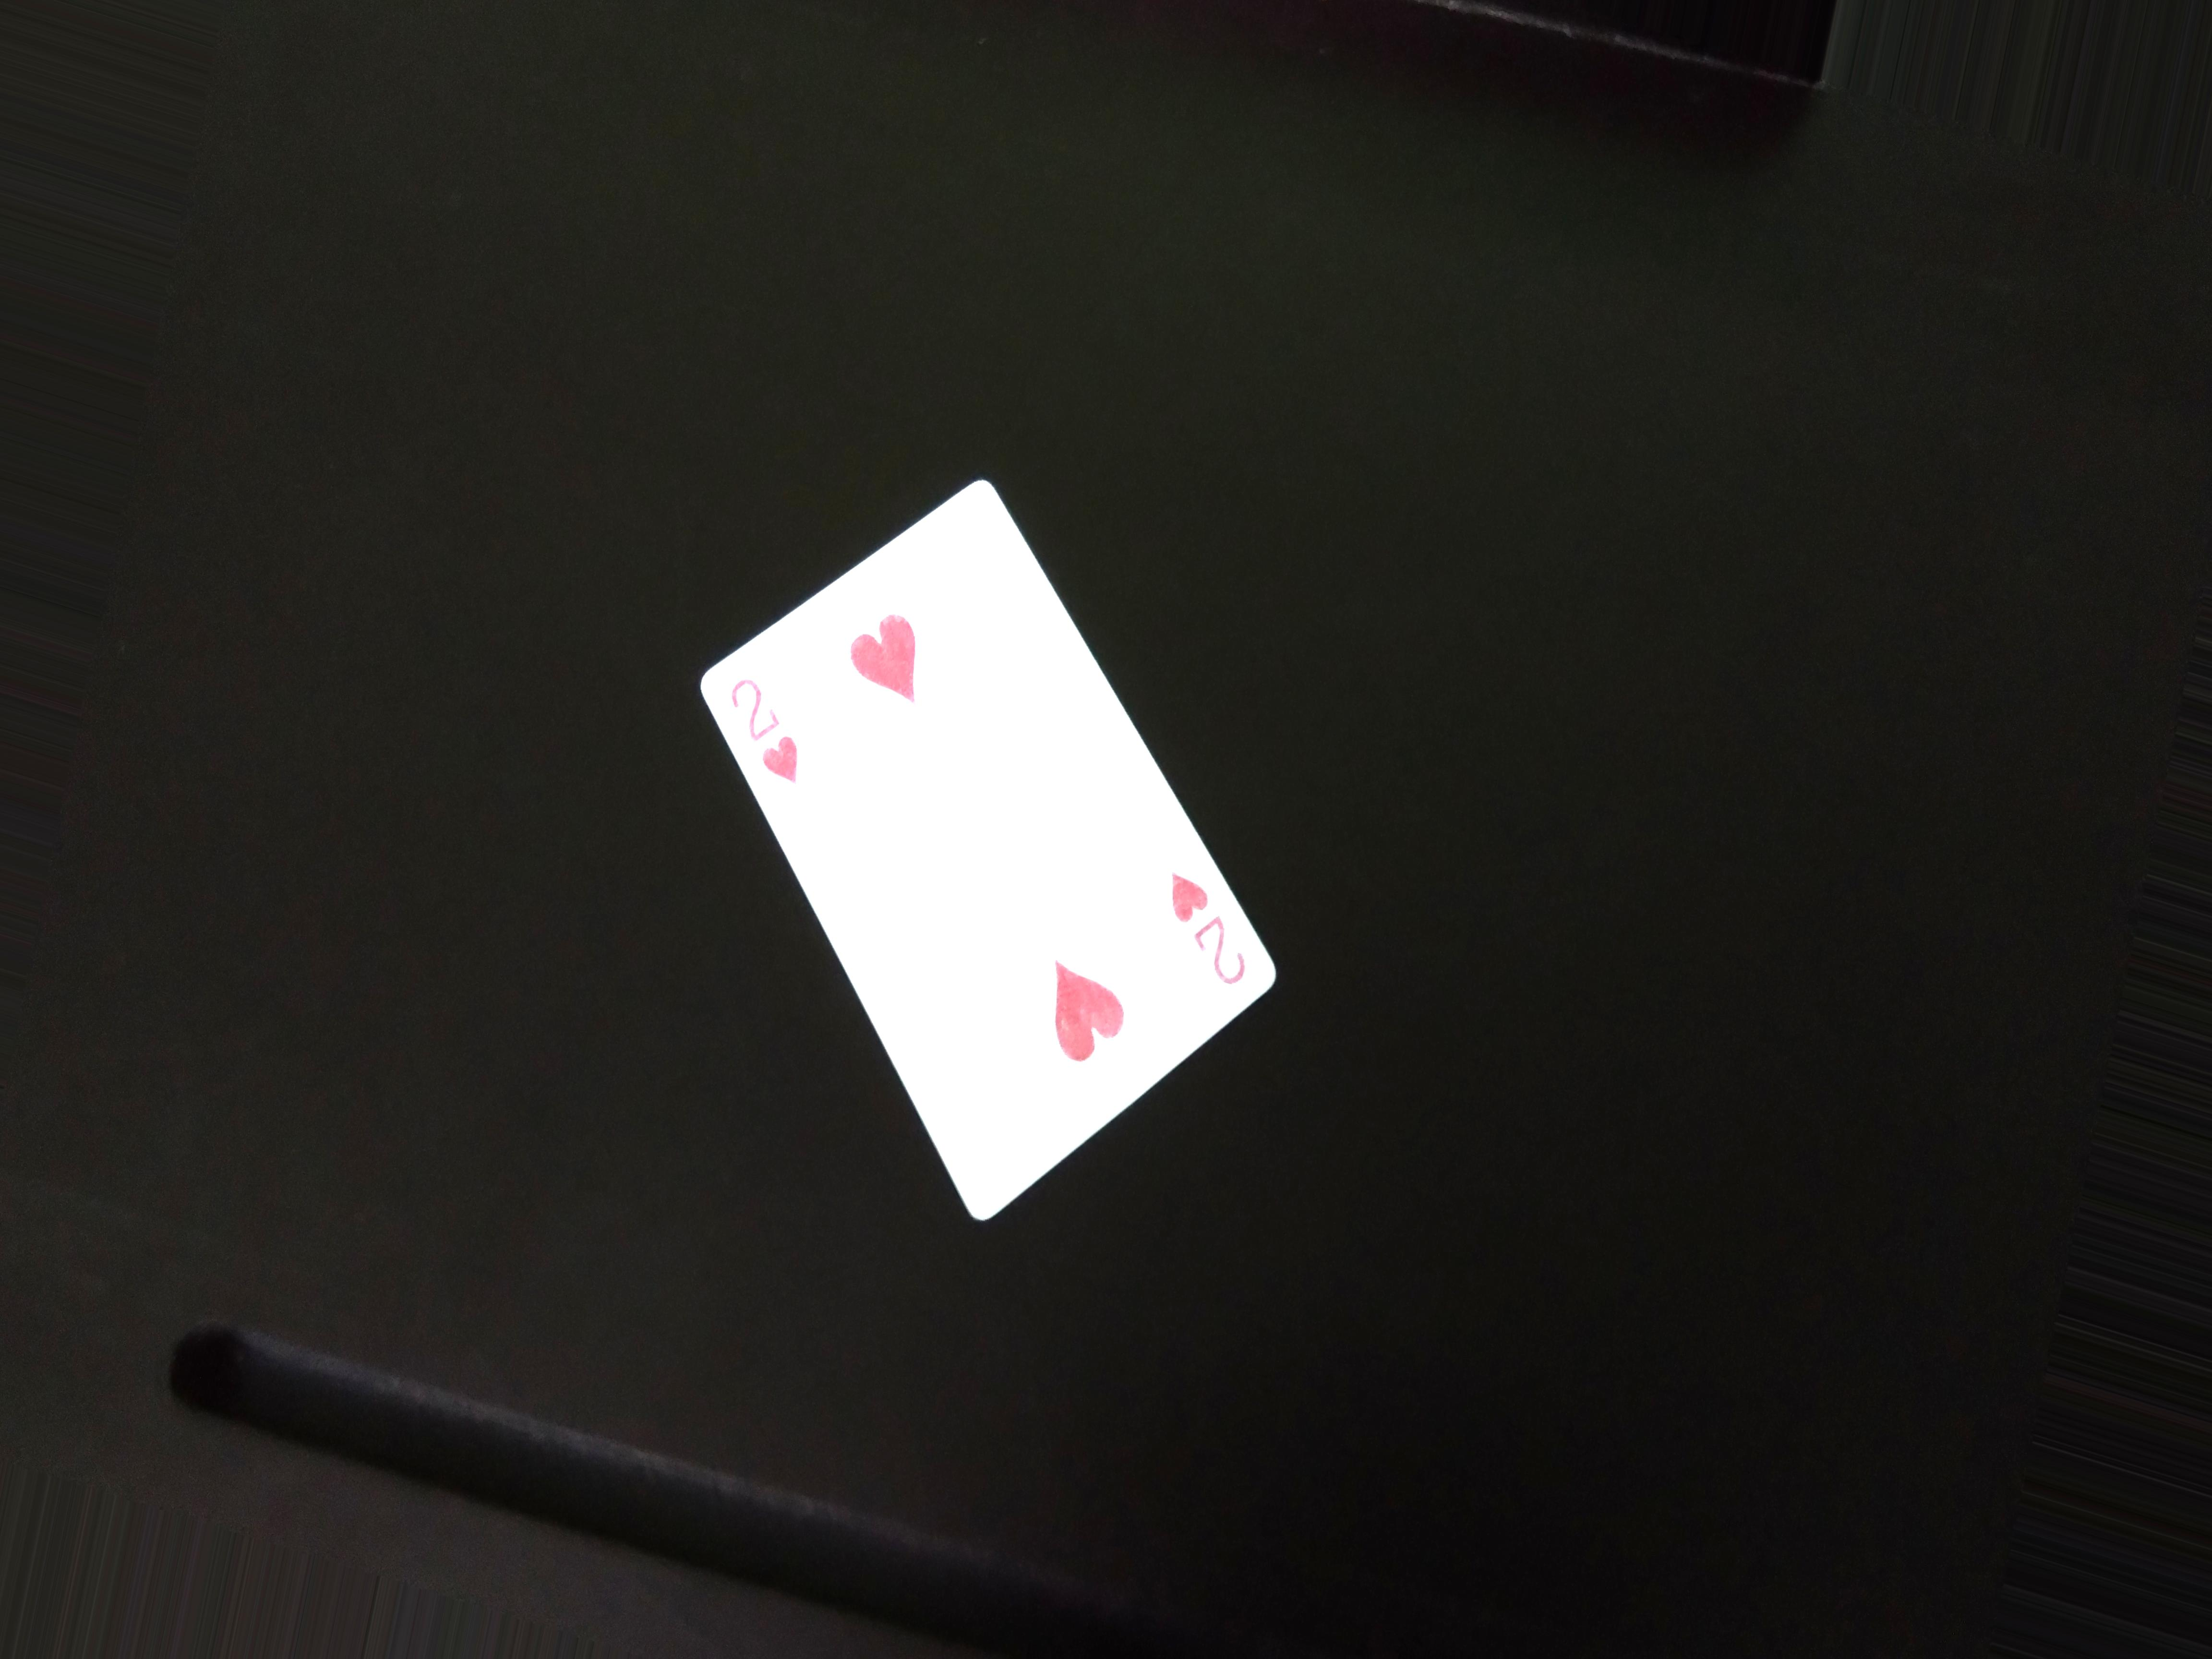2H: (693, 669, 836, 795)
